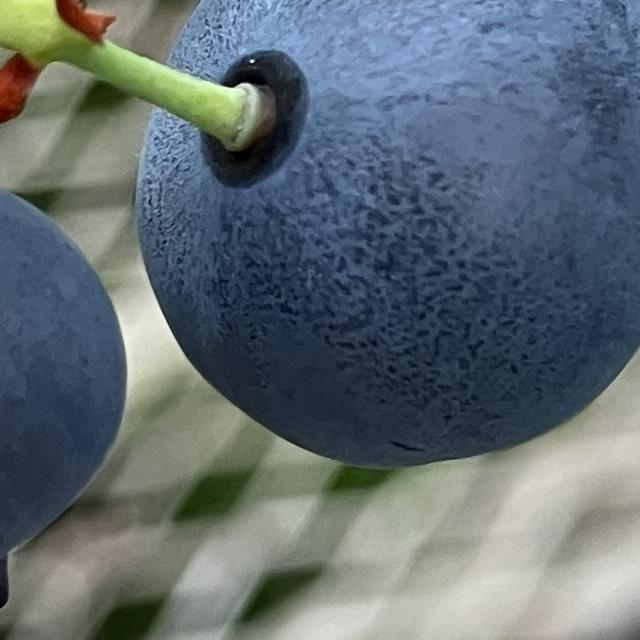Blueberries: (130, 0, 640, 468)
